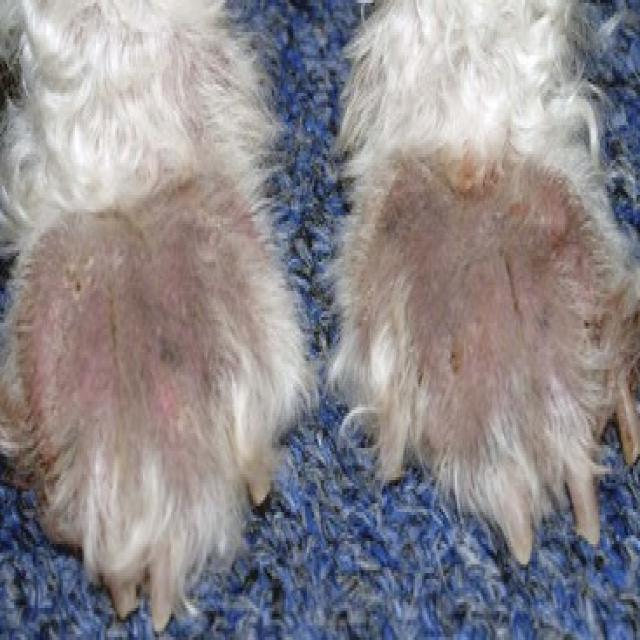fungal infection: (27, 189, 269, 480), (361, 157, 618, 424)
